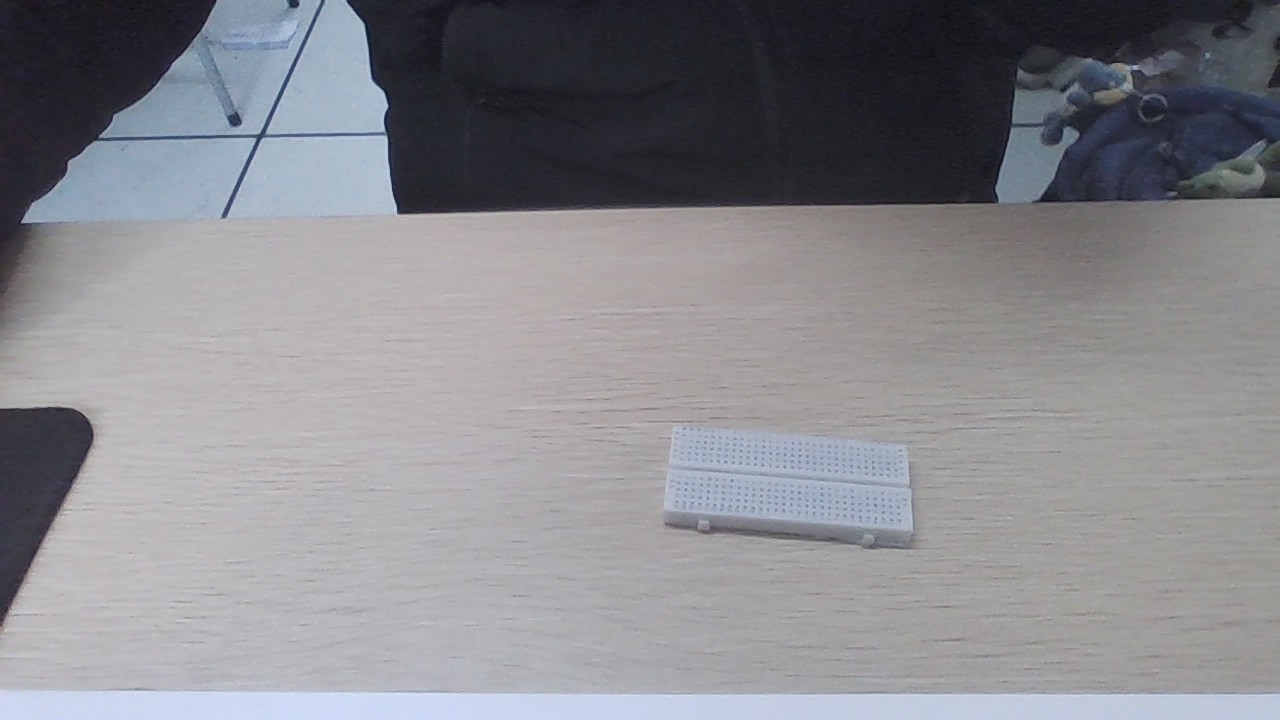KHS-breadboard: (655, 424, 915, 553)
